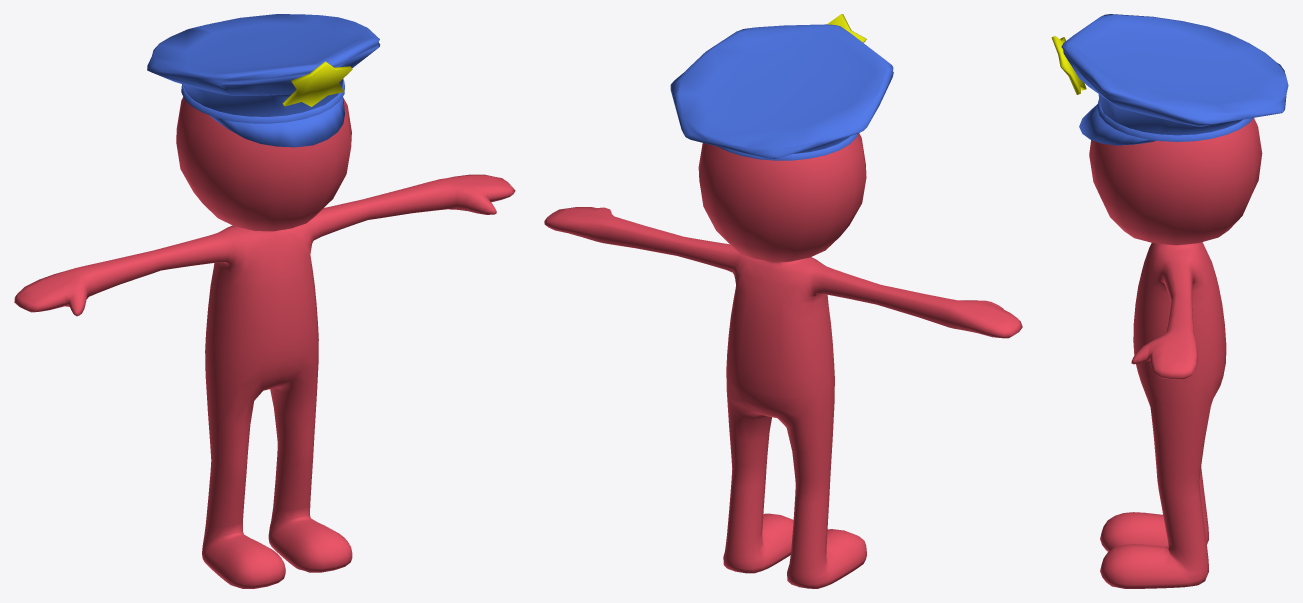
Rendered from Grabber_Casual.fbx.
3 renders of one model, left to right at view 1: azimuth 30°, elevation 25°; view 2: azimuth 150°, elevation 25°; view 3: azimuth 270°, elevation 25°, orthographic. The views are drawn at different scales.
Visible parts, largest first — view 1: Bad.001; view 2: Bad.001; view 3: Bad.001.
Boxes of the visible parts, x1=… form: Bad.001: x1=14, y1=14, x2=515, y2=588; Bad.001: x1=544, y1=14, x2=1022, y2=588; Bad.001: x1=1051, y1=14, x2=1288, y2=588.
Bounding box in the file's own units: 178 × 186 × 75.69.
